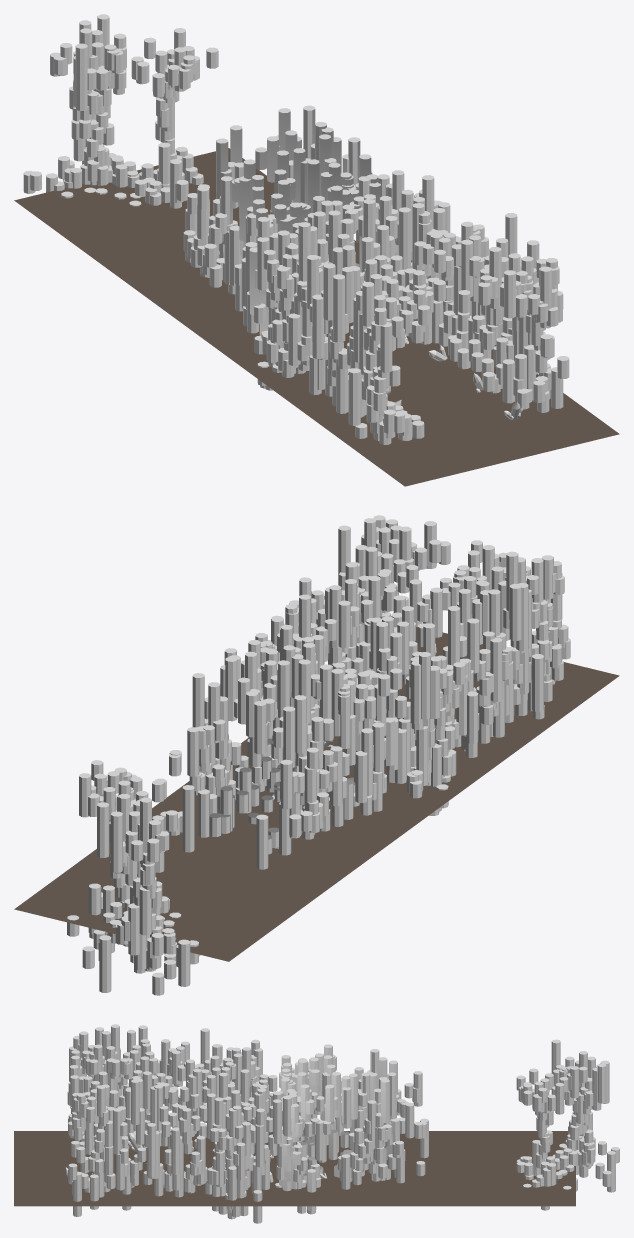
File: Malachite.fbx
3 views of the same model, one above another, from view 1: azimuth 30°, elevation 25°; view 2: azimuth 150°, elevation 25°; view 3: azimuth 270°, elevation 25° (orthographic). The views are drawn at different scales.
Parts seen in each view (by area): view 1: Cube.006, Plane.002, Cube.008, Cube.011, Cube.007, Cube.010, Cube.009; view 2: Cube.006, Plane.002, Cube.008, Cube.011, Cube.007, Cube.009, Cube.010; view 3: Cube.006, Plane.002, Cube.008, Cube.007, Cube.011, Cube.010, Cube.009.
Part boxes in pixels (bbox=[...]): Cube.006: bbox=[254, 170, 569, 444]; Plane.002: bbox=[14, 148, 619, 486]; Cube.008: bbox=[206, 105, 381, 335]; Cube.011: bbox=[23, 14, 138, 198]; Cube.007: bbox=[241, 174, 459, 390]; Cube.010: bbox=[96, 28, 218, 206]; Cube.009: bbox=[170, 143, 314, 294]; Cube.006: bbox=[255, 515, 570, 798]; Plane.002: bbox=[14, 627, 619, 961]; Cube.008: bbox=[187, 640, 390, 855]; Cube.011: bbox=[82, 785, 200, 995]; Cube.007: bbox=[247, 607, 465, 815]; Cube.009: bbox=[169, 697, 337, 869]; Cube.010: bbox=[67, 760, 181, 971]; Cube.006: bbox=[67, 1024, 268, 1216]; Plane.002: bbox=[14, 1131, 575, 1206]; Cube.008: bbox=[279, 1044, 414, 1211]; Cube.007: bbox=[212, 1050, 319, 1223]; Cube.011: bbox=[551, 1039, 619, 1192]; Cube.010: bbox=[516, 1068, 579, 1210]; Cube.009: bbox=[350, 1071, 428, 1185].
Bounding box in the file's own units: 27.77 × 94.33 × 25.38.
